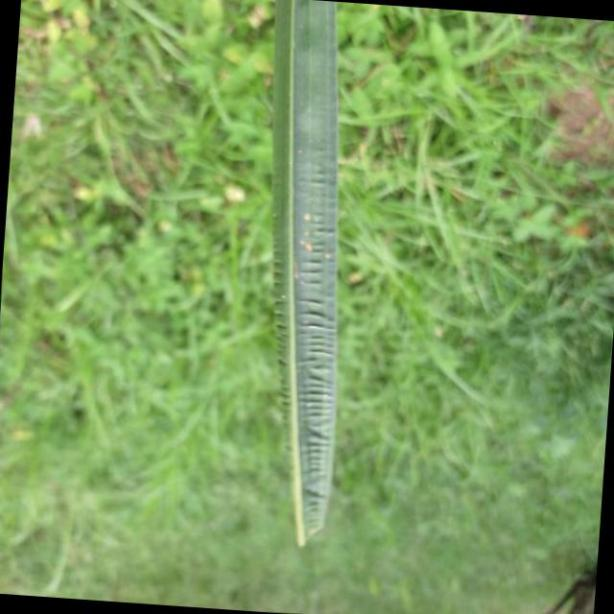Boron: (266, 0, 342, 560)
